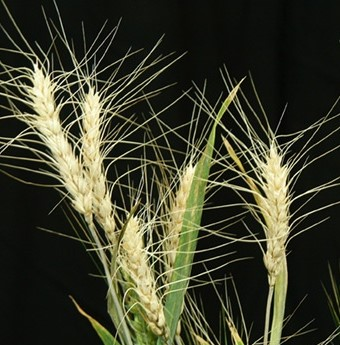Healthy Wheat: (21, 65, 120, 226)
